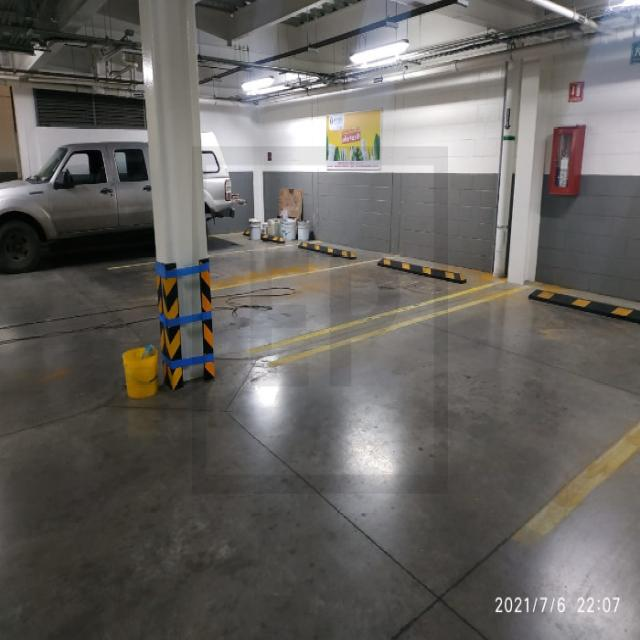libre: (235, 296, 639, 576), (202, 264, 456, 355), (103, 242, 336, 302)
ocupado: (1, 126, 273, 270)
